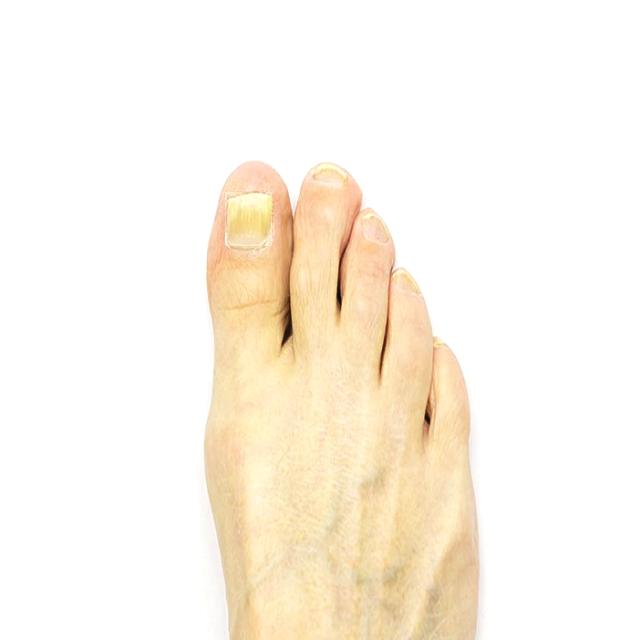diabetes: (225, 193, 272, 246)
